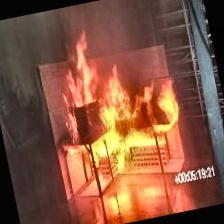fire: (25, 9, 211, 211)
